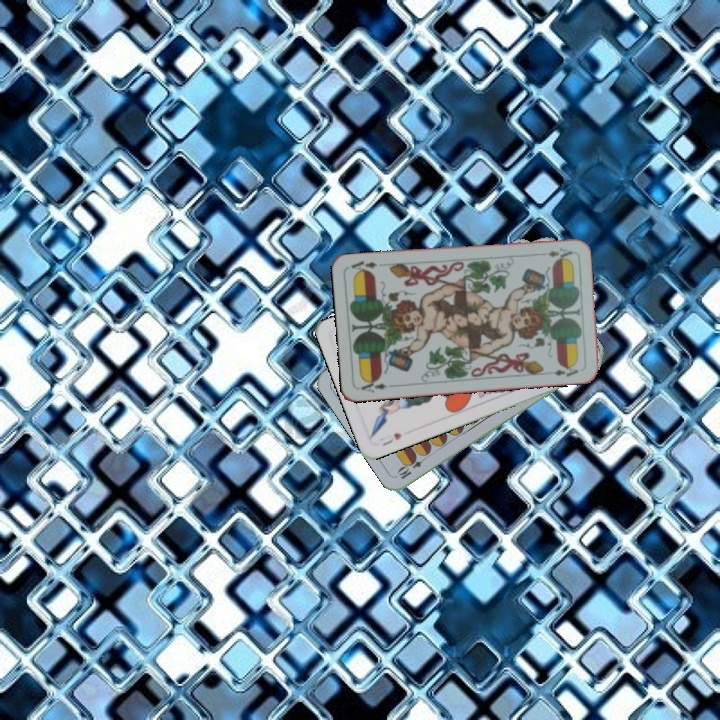E10: (394, 451, 430, 482)
EA: (357, 376, 389, 395), (543, 243, 575, 260)
HU: (378, 429, 405, 448)
